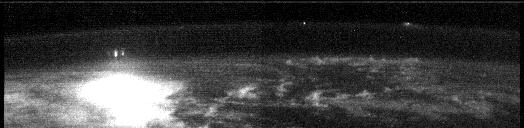positive: (111, 46, 127, 61)
